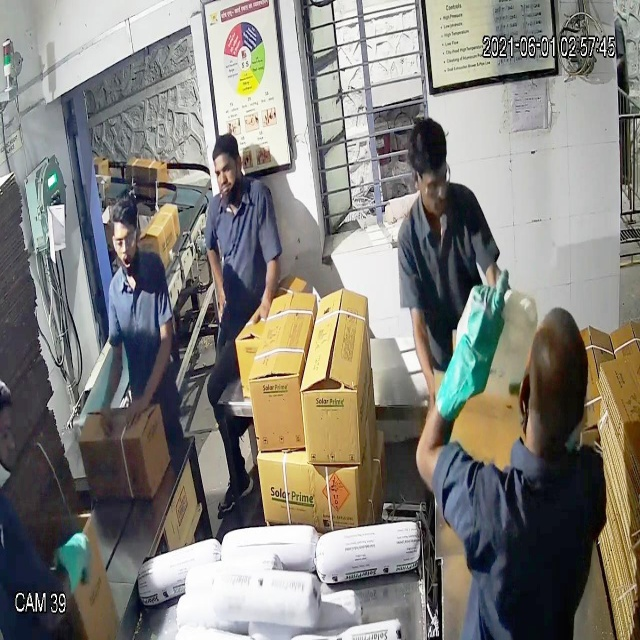Gafas: (109, 221, 144, 257)
